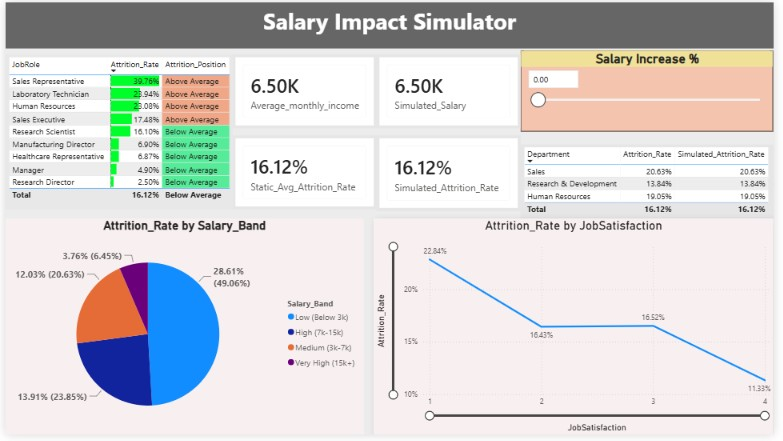

The page's visual inventory and layout, read from the dashboard file:
{"tool":"powerbi","page":{"name":"Salary Impact Simulation","canvas":[1280,720],"ordinal":1},"visuals":[{"type":"textbox","box":[0,0,1280,76.7],"z":0},{"type":"slicer","title":"Salary Increase %","fields":{"Values":["Salary Increase %.Salary Increase %"]},"box":[859,80.8,421,135.1],"z":1000},{"type":"cardVisual","fields":{"Data":["Measures (3).Average_monthly_income"]},"box":[378.3,86.7,240,123.3],"z":2000},{"type":"cardVisual","fields":{"Data":["Measures (3).Simulated_Salary"]},"box":[618.3,86.7,240,123.3],"z":3000},{"type":"cardVisual","fields":{"Data":["Measures (3).Static_Avg_Attrition_Rate"]},"box":[378.3,221.7,240,123.3],"z":4000},{"type":"cardVisual","fields":{"Data":["Measures (3).Simulated_Attrition_Rate"]},"box":[618.3,221.7,240,126.7],"z":5000},{"type":"tableEx","fields":{"Values":["Hr_Data.Department","Measures (3).Attrition_Rate","Measures (3).Simulated_Attrition_Rate"]},"box":[858.3,236.7,421.7,130],"z":6000},{"type":"tableEx","fields":{"Values":["Hr_Data.JobRole","Measures (3).Attrition_Rate","Measures (3).Attrition_Position"]},"box":[0,86.7,378.3,258.3],"z":7000},{"type":"lineChart","fields":{"Y":["Measures (3).Attrition_Rate"],"Category":["Hr_Data.JobSatisfaction"]},"box":[613.3,360,666.7,360],"z":8000},{"type":"pieChart","fields":{"Category":["Hr_Data.Salary_Band"],"Y":["Measures (3).Attrition_Rate"]},"box":[0,360,596.7,360],"z":9000}]}

Visuals, with their boxes in screenshot pixels (x1, y1, x2, y2), scaled from the page's 1280x720 canvas onto the 783x441 screenshot:
textbox: crop(0, 0, 782, 47)
"Salary Increase %" slicer: crop(525, 49, 782, 132)
cardVisual - Measures (3).Average_monthly_income: crop(231, 53, 378, 129)
cardVisual - Measures (3).Simulated_Salary: crop(378, 53, 525, 129)
cardVisual - Measures (3).Static_Avg_Attrition_Rate: crop(231, 136, 378, 211)
cardVisual - Measures (3).Simulated_Attrition_Rate: crop(378, 136, 525, 213)
tableEx - Hr_Data.Department x Measures (3).Attrition_Rate: crop(525, 145, 782, 225)
tableEx - Hr_Data.JobRole x Measures (3).Attrition_Rate: crop(0, 53, 231, 211)
lineChart - Measures (3).Attrition_Rate x Hr_Data.JobSatisfaction: crop(375, 221, 782, 440)
pieChart - Hr_Data.Salary_Band x Measures (3).Attrition_Rate: crop(0, 221, 365, 440)
